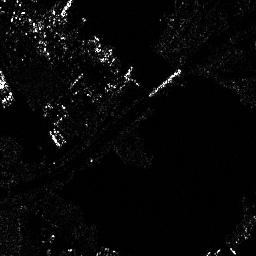ship: (48, 128, 66, 148)
